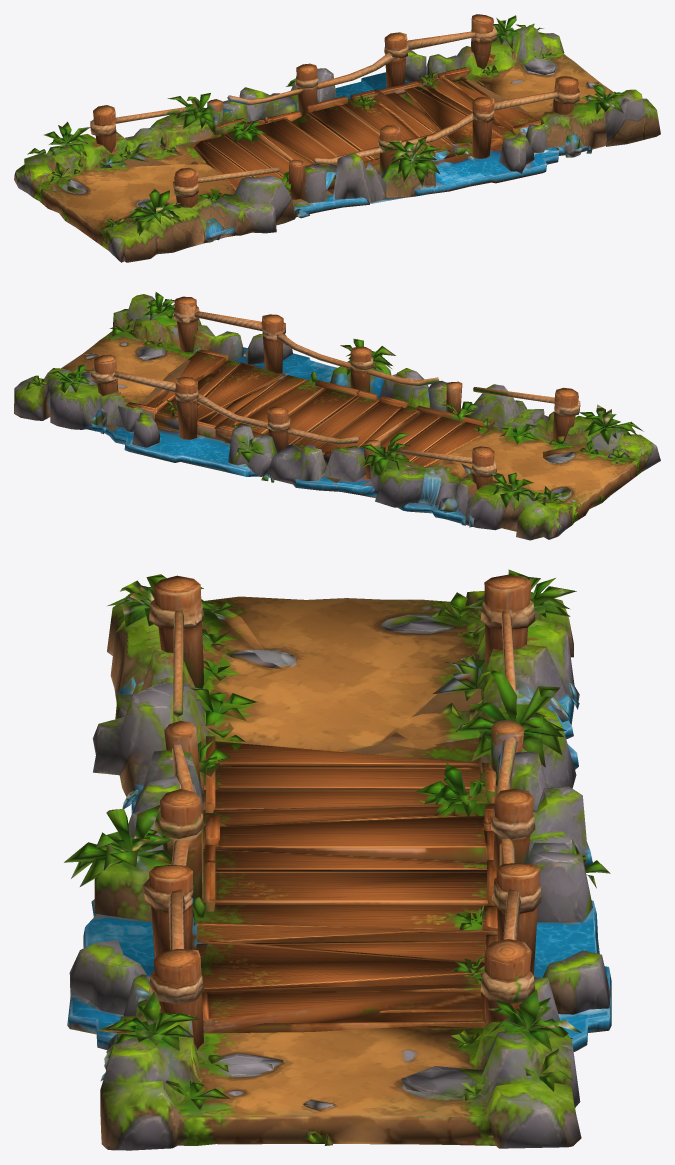
File: Meshy_AI_Tropical_Timber_Bridg_1005032828_texture.glb
3 renders of one model, top to bottom at view 1: azimuth 30°, elevation 25°; view 2: azimuth 150°, elevation 25°; view 3: azimuth 270°, elevation 25°, orthographic. The views are drawn at different scales.
Size of the model in its own units: 0.9531 by 0.1128 by 0.4189.
1 material, 1 textured.
